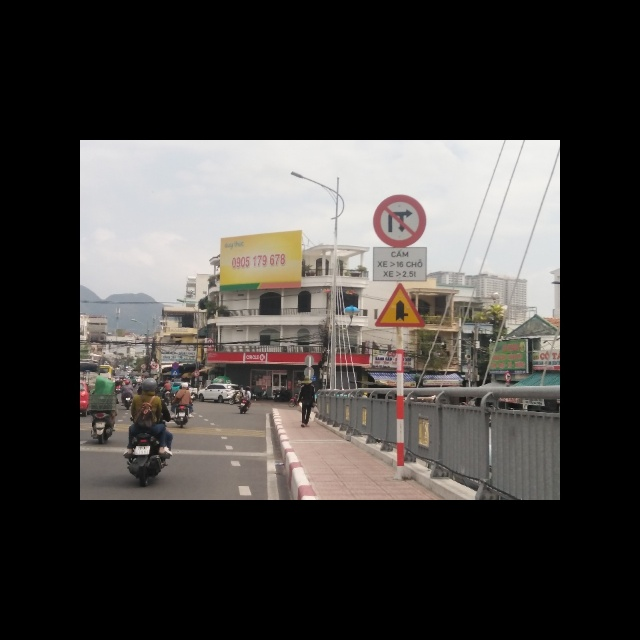Cấm quay đầu và rẽ phải: (373, 194, 426, 247)
Giao nhau với đường không ưu tiên: (375, 283, 424, 328)
